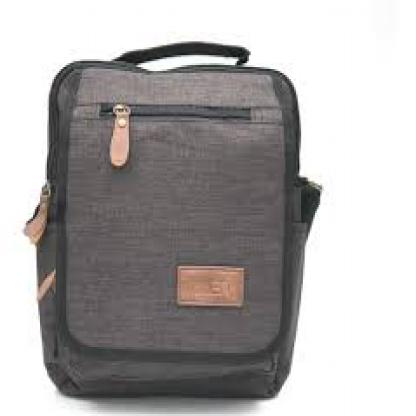morral: (22, 22, 330, 406)
